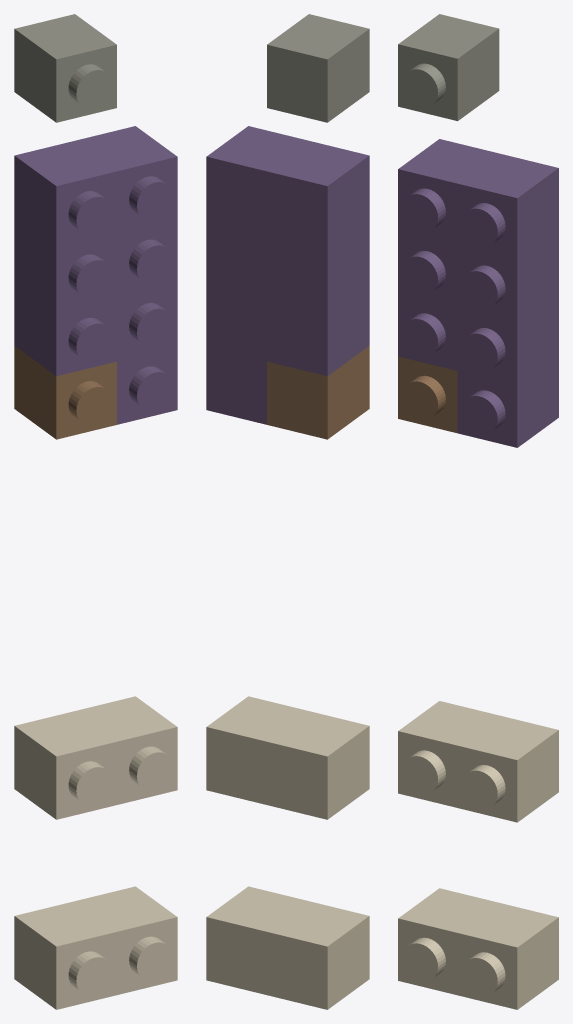
The model's file is current.glb.
The picture shows the model from 3 angles, left to right: view 1: azimuth 30°, elevation 25°; view 2: azimuth 150°, elevation 25°; view 3: azimuth 330°, elevation 25°; orthographic projection.
Visible parts, largest first — view 1: world; view 2: world; view 3: world.
Part boxes in pixels (<box>): world: <box>14,14,177,1009</box>; world: <box>206,14,369,1009</box>; world: <box>398,14,558,1009</box>.
Bounding box in the file's own units: 16 × 120 × 11.4.
